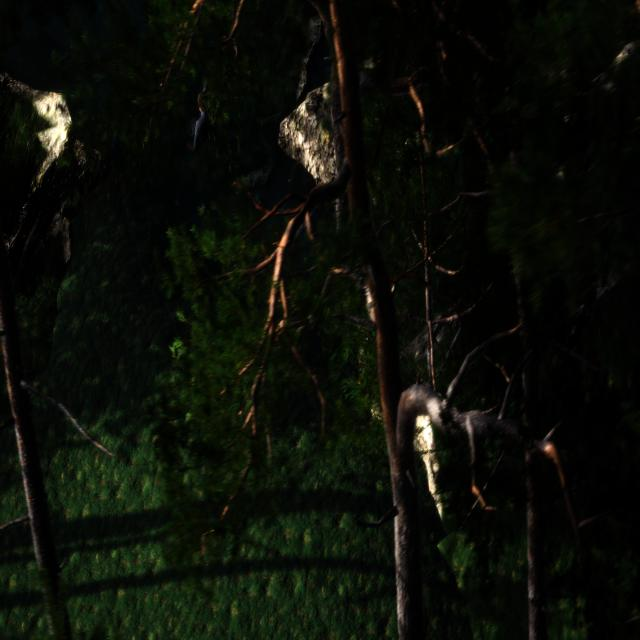Human: (167, 82, 221, 157)
